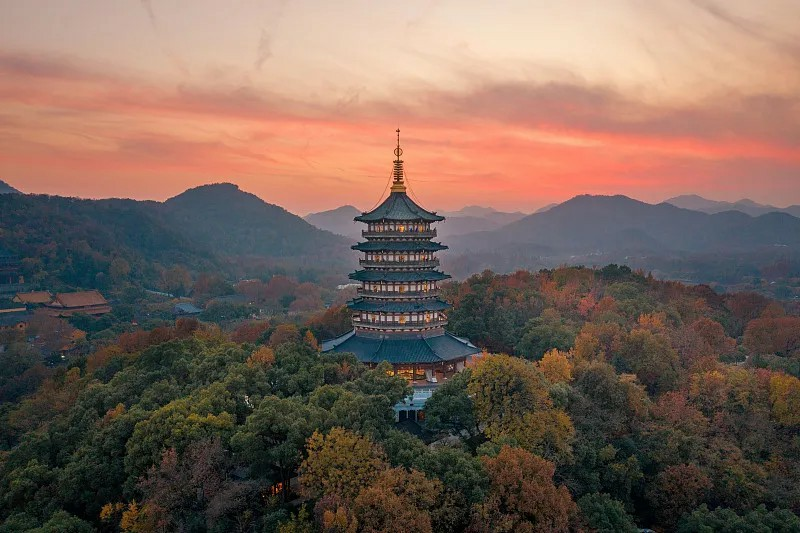Leifeng: (309, 126, 481, 390)
